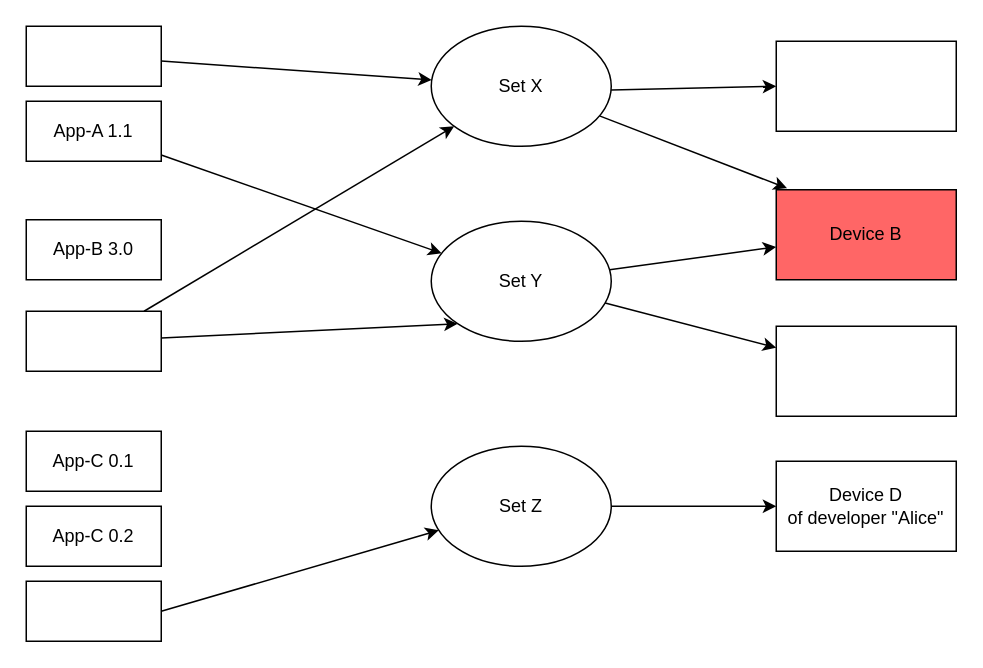
This 983x668 diagram has some shape labels left out. Each missing label, with the centre of its shape:
App-A 1.0: the point at 93,55
App-B 3.1: the point at 93,340
App-C 0.3: the point at 93,610
Device A: the point at 865,85
Device C: the point at 865,370
